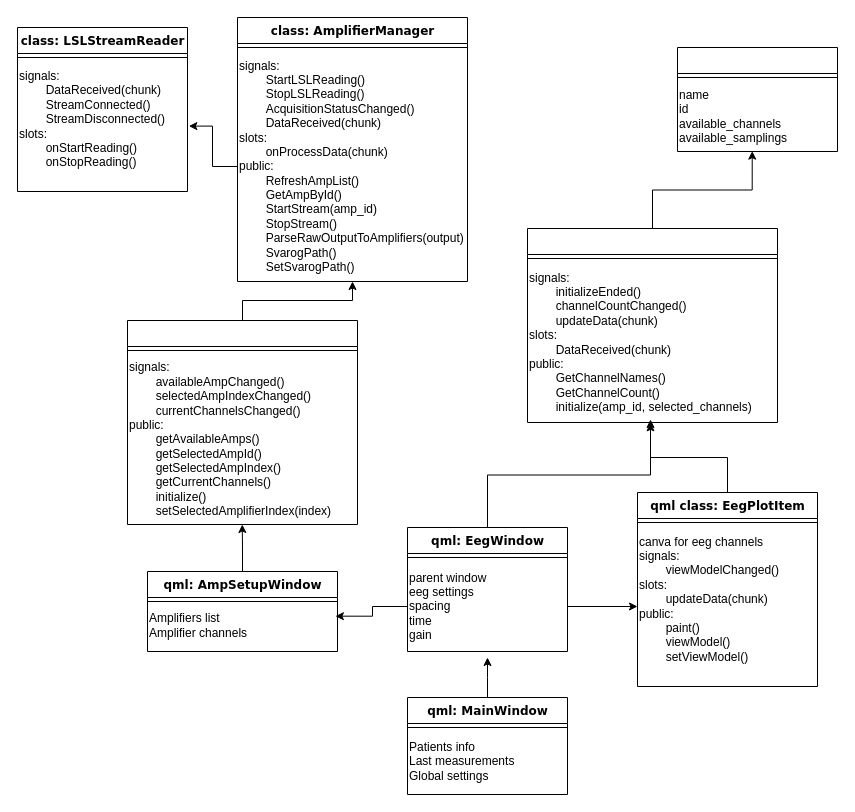
Some shapes in this 855 by 812 pixel diagram are drawn without their labels. Here are the shapes that lost their labels. From the top down, the box of each, then its label:
(676, 46, 838, 152): struct: AmplifierModel
(526, 228, 778, 422): class: EegViewModel
(126, 320, 358, 524): class: AmplifierSetupViewModel
